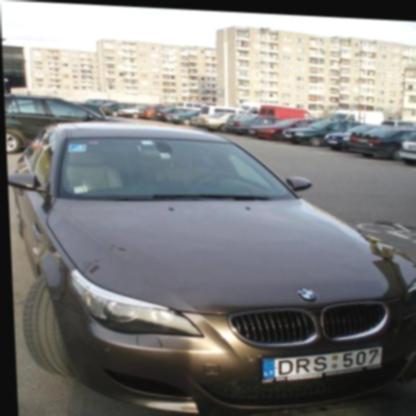License_Plate: (260, 342, 384, 388), (358, 138, 370, 143), (410, 146, 416, 152)
